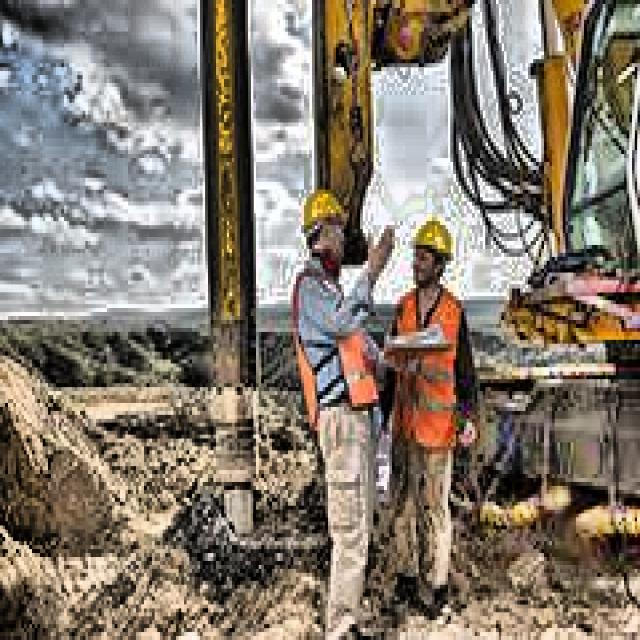helmet: (299, 182, 349, 272), (408, 210, 456, 296)
